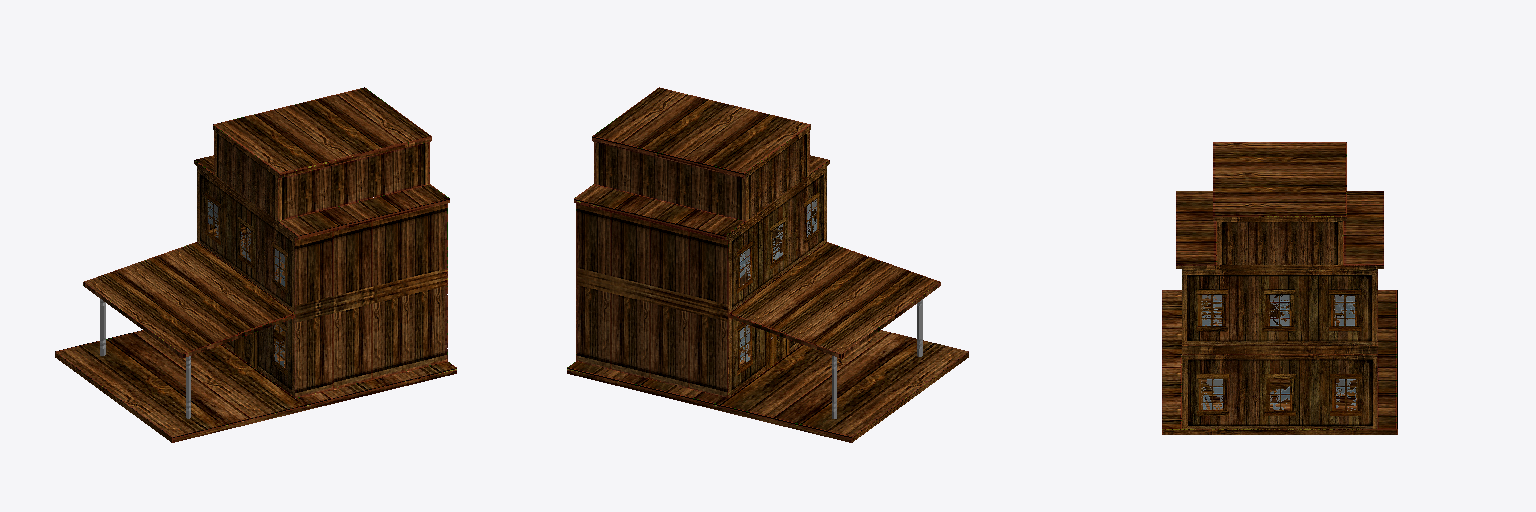
3 views of the same model, side by side, from view 1: azimuth 30°, elevation 25°; view 2: azimuth 150°, elevation 25°; view 3: azimuth 270°, elevation 25° (orthographic).
Visible parts, largest first — view 1: Box001; view 2: Box001; view 3: Box001.
Part boxes in pixels (left/top/right/bottom): Box001: left=55, top=87, right=456, bottom=442; Box001: left=567, top=87, right=968, bottom=442; Box001: left=1162, top=142, right=1397, bottom=434.
Bounding box in the file's own units: 1071 × 785 × 766.
Materials: 2 (1 with a texture image).